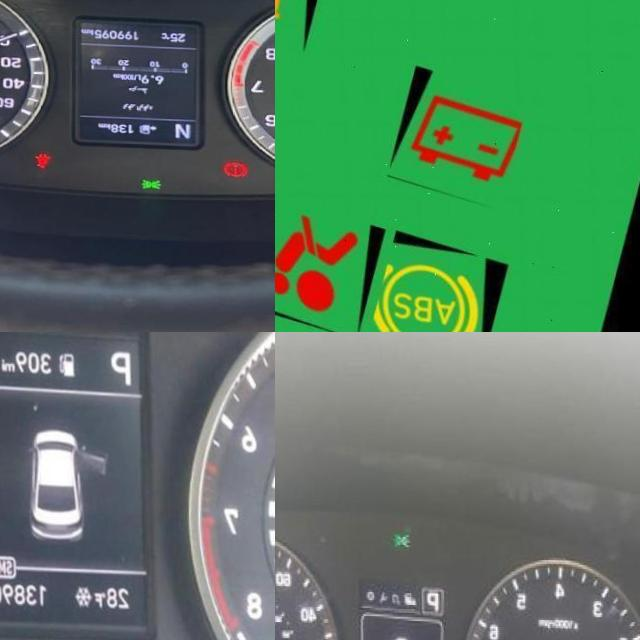Seat Belt: (32, 151, 49, 168)
